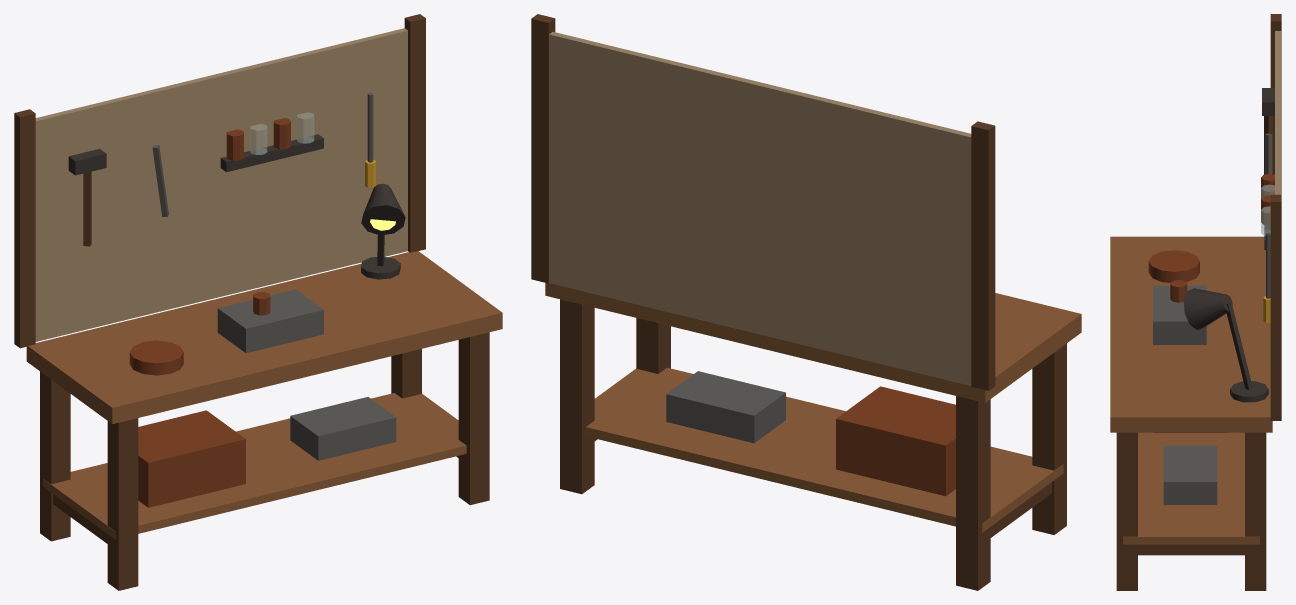
Rendered from workbench.glb.
3 renders of one model, left to right at view 1: azimuth 30°, elevation 25°; view 2: azimuth 150°, elevation 25°; view 3: azimuth 270°, elevation 25°, orthographic. The views are drawn at different scales.
Visible parts, largest first — view 1: workbench; view 2: workbench; view 3: workbench.
Part boxes in pixels (left/top/right/bottom): workbench: left=14, top=14, right=502, bottom=590; workbench: left=531, top=14, right=1081, bottom=590; workbench: left=1110, top=14, right=1281, bottom=590.
Bounding box in the file's own units: 2.08 × 2.05 × 0.8015.
